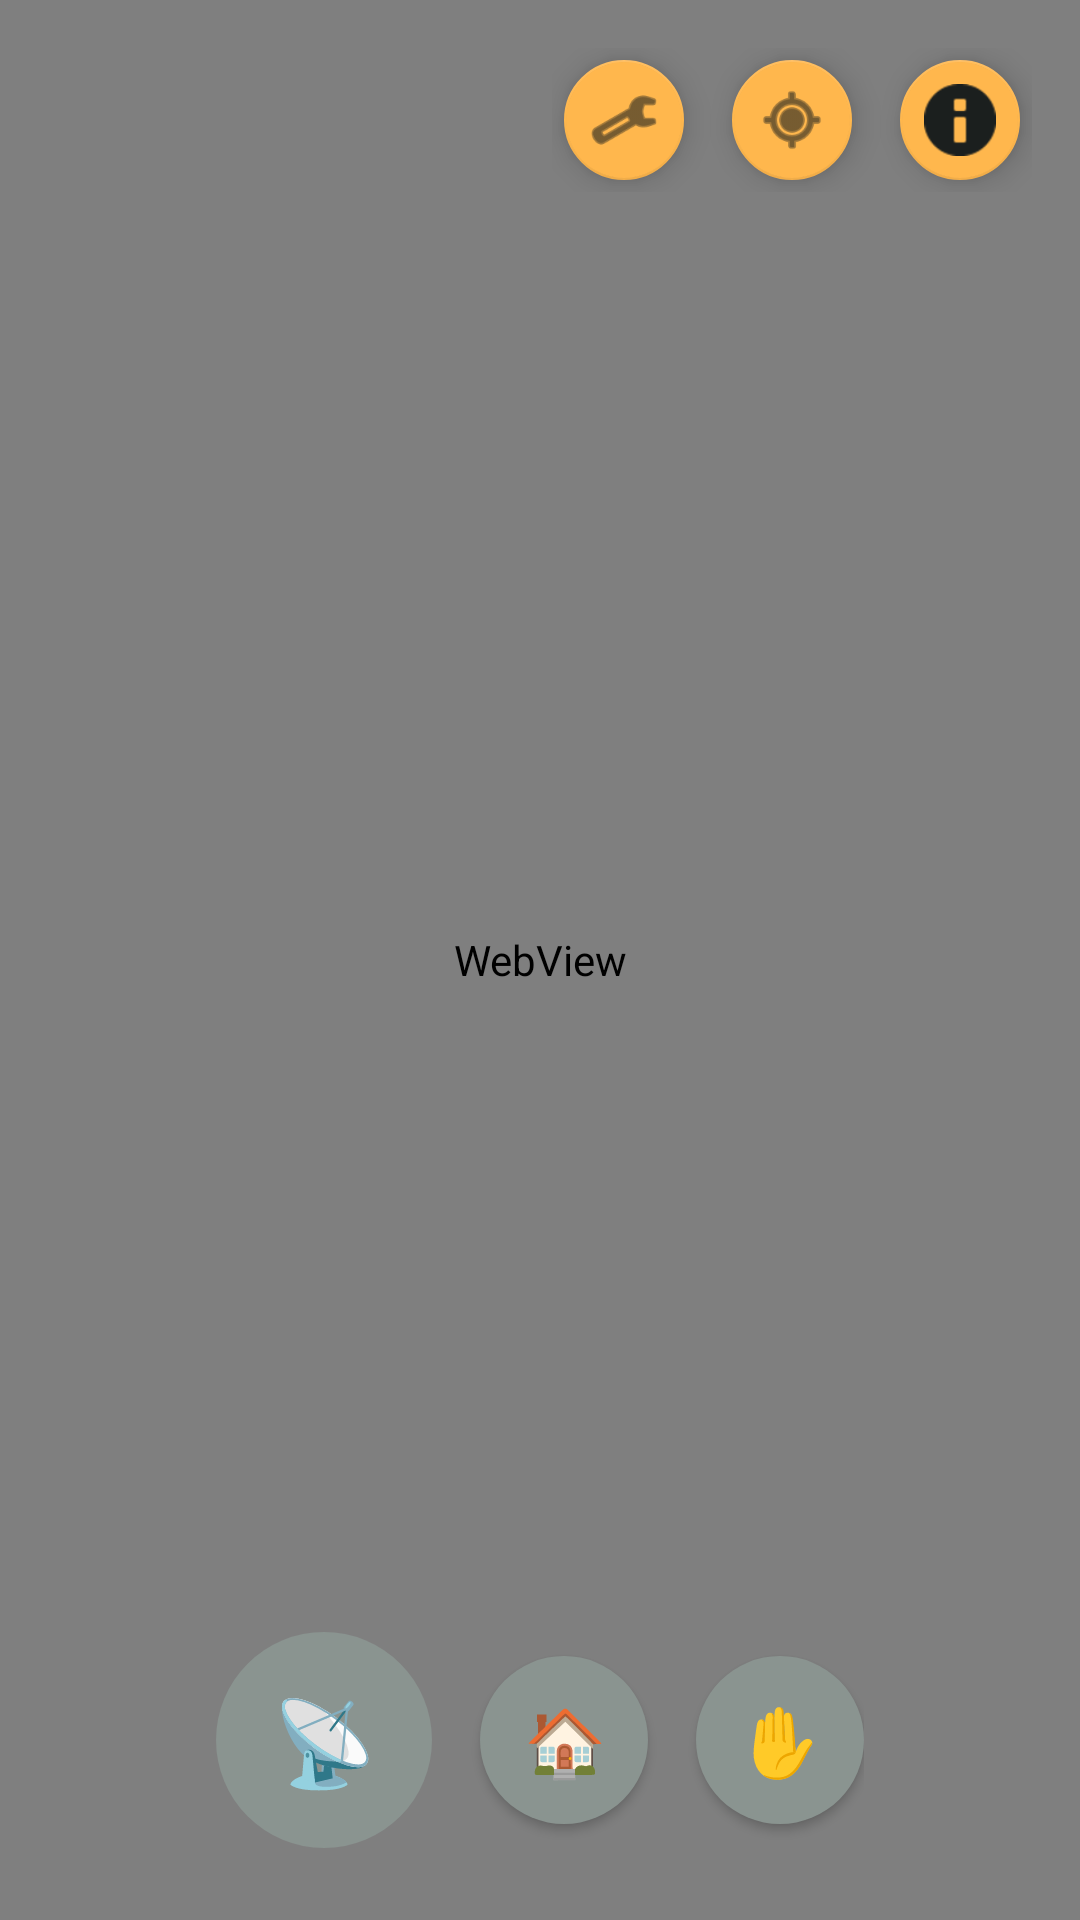

Screen size 1080×1920. Icon name, then its box in pixels as (x1, y1, x2, y2):
הגדרות: (564, 60, 684, 180)
הוסף תחנת עלייה במיקום הנוכחי: (732, 60, 852, 180)
עזרה: (900, 60, 1020, 180)
